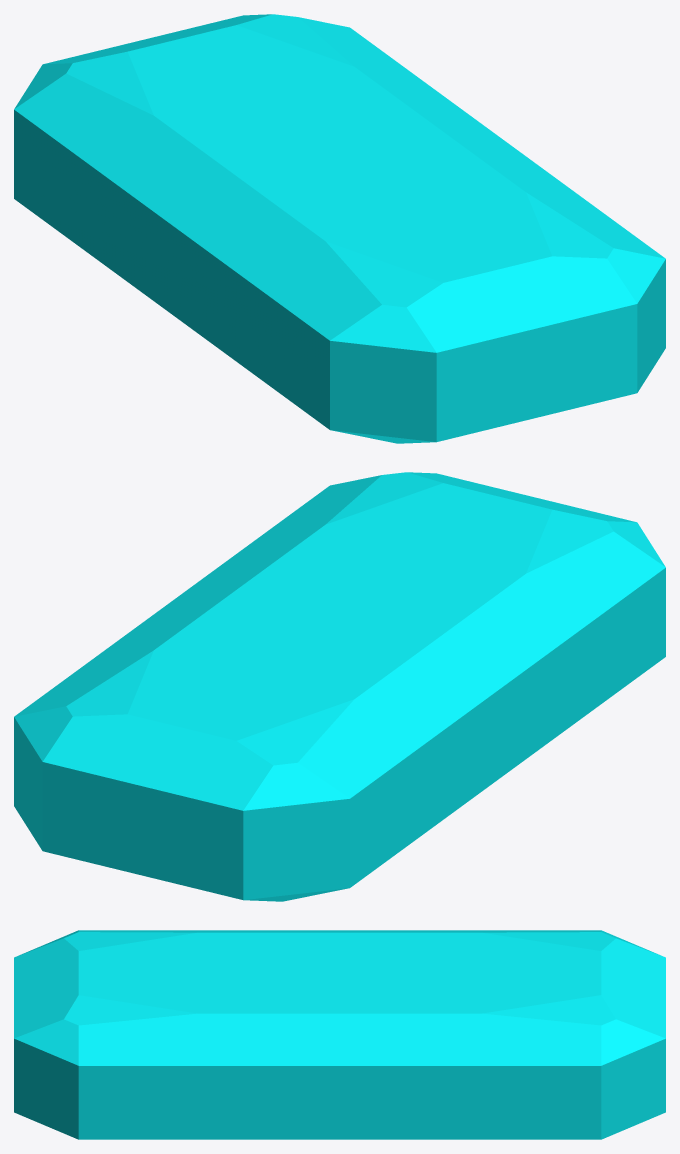
The model's file is Gem_01.glb.
3 views of the same model, one above another, from view 1: azimuth 30°, elevation 25°; view 2: azimuth 150°, elevation 25°; view 3: azimuth 270°, elevation 25° (orthographic). The views are drawn at different scales.
Parts seen in each view (by area): view 1: Gem_01; view 2: Gem_01; view 3: Gem_01.
Boxes of the visible parts, <box> form: Gem_01: <box>14,14,665,443</box>; Gem_01: <box>14,472,665,901</box>; Gem_01: <box>14,930,665,1139</box>.
Size of what is drawn, in the model's own units: 0.2388 by 0.1016 by 0.4852.
1 material, 1 textured.
